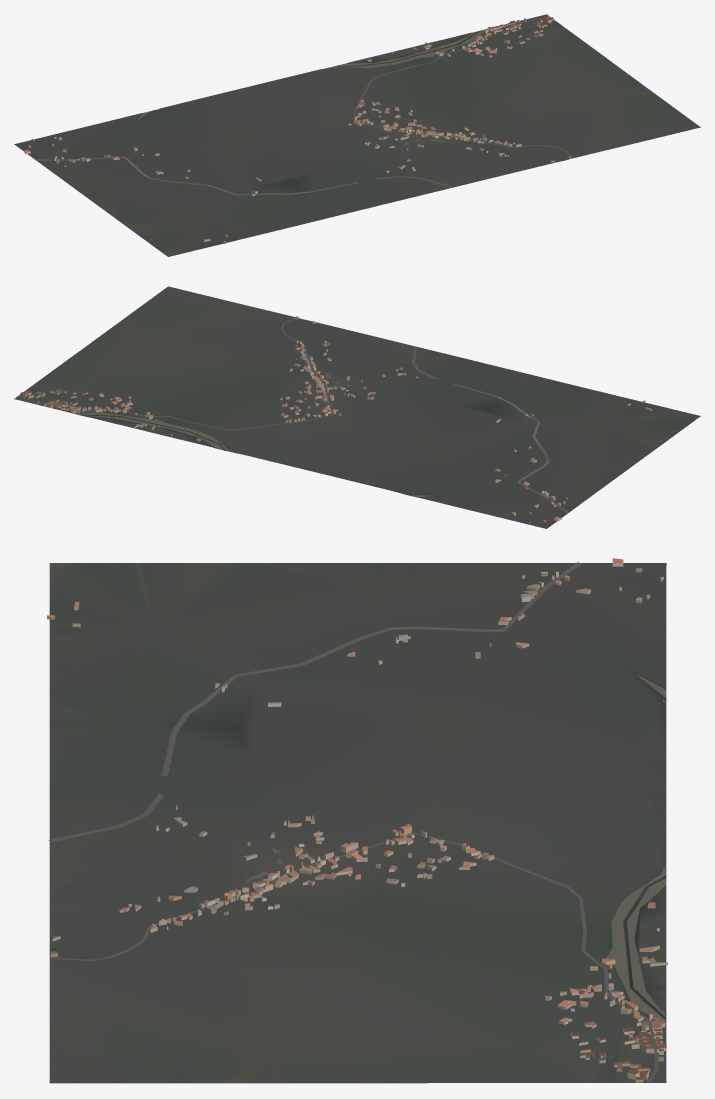
The picture shows the model from 3 angles, top to bottom: view 1: azimuth 30°, elevation 25°; view 2: azimuth 150°, elevation 25°; view 3: azimuth 270°, elevation 25°; orthographic projection. The views are drawn at different scales.
Visible parts, largest first — view 1: ground, buildings, roads, water; view 2: ground, buildings, roads, water; view 3: ground, buildings, roads, water.
Part boxes in pixels (left/top/right/bottom): ground: left=14, top=14, right=700, bottom=256; buildings: left=24, top=16, right=571, bottom=243; roads: left=35, top=17, right=573, bottom=195; water: left=135, top=29, right=566, bottom=159; ground: left=14, top=286, right=700, bottom=528; buildings: left=20, top=316, right=651, bottom=524; roads: left=18, top=317, right=569, bottom=513; water: left=74, top=319, right=439, bottom=497; ground: left=49, top=563, right=666, bottom=1083; buildings: left=47, top=558, right=667, bottom=1082; roads: left=49, top=562, right=658, bottom=1082; water: left=50, top=674, right=665, bottom=1025.
Size of the model in its own units: 2806 by 20.73 by 1411.
